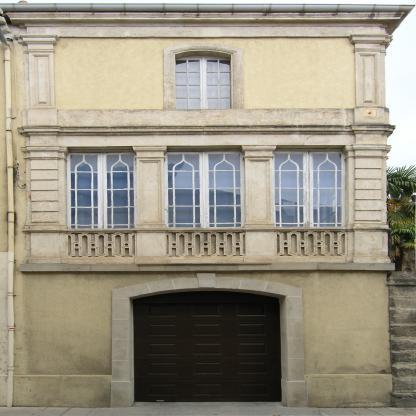Building Outline: (0, 3, 415, 407)
Door: (129, 288, 289, 407)
Facade: (0, 3, 416, 407)
Floor: (22, 135, 387, 263)
Floor Slab: (22, 126, 389, 135), (22, 264, 389, 270)
Ground Floor: (22, 270, 389, 407)
Molding: (5, 12, 405, 28), (17, 124, 396, 138)
Pillar: (15, 34, 68, 264), (345, 34, 394, 263), (240, 145, 278, 256), (132, 145, 168, 257)
Top Floor: (22, 12, 385, 126)
Window: (164, 145, 244, 229), (273, 145, 349, 229), (164, 151, 245, 229), (64, 146, 137, 229), (273, 151, 349, 229), (67, 152, 137, 229), (175, 51, 231, 108), (176, 58, 231, 108)
